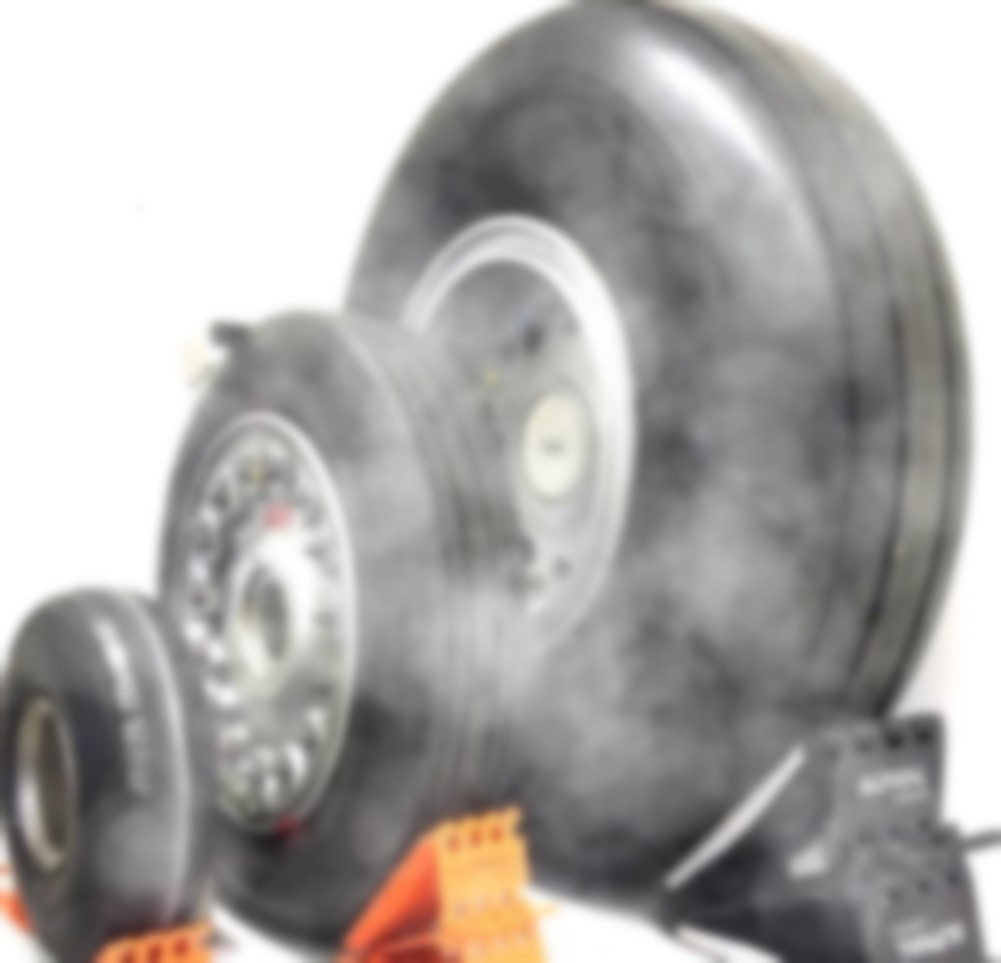chock: (643, 695, 1001, 963), (328, 801, 573, 963), (74, 911, 252, 963)
wheel: (313, 0, 991, 908), (145, 307, 529, 926), (0, 583, 233, 963)
